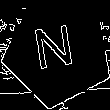N_S: (34, 24, 82, 80)
